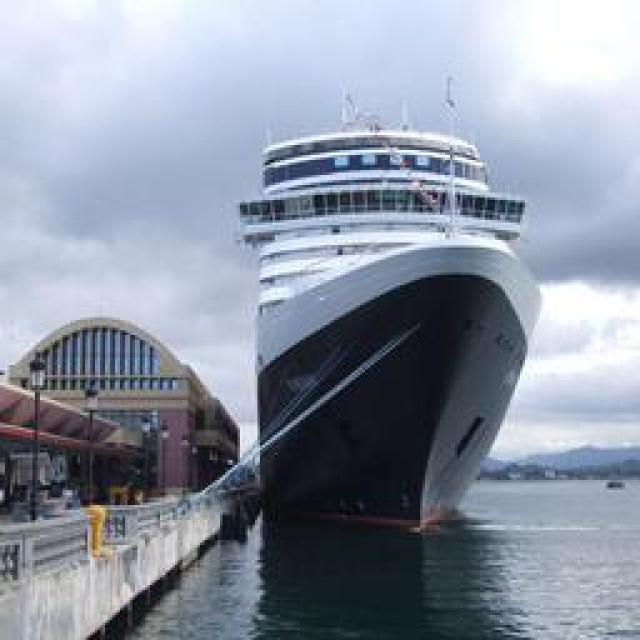CIV_Ship: (232, 112, 548, 558)
